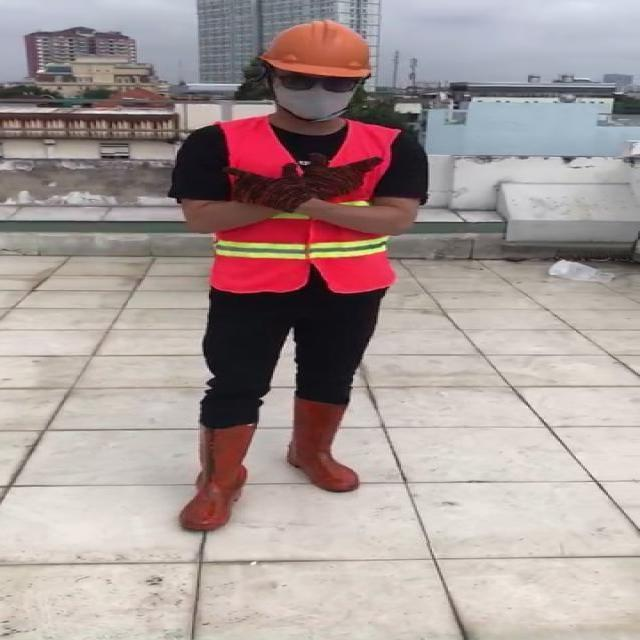helmet: (260, 16, 382, 78)
safety_vest: (210, 118, 403, 293)
